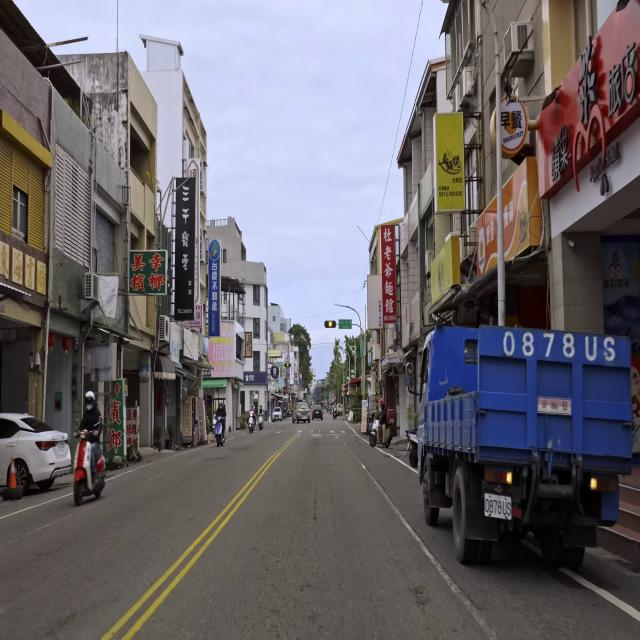yellow light: (324, 320, 336, 328), (284, 363, 291, 367)
